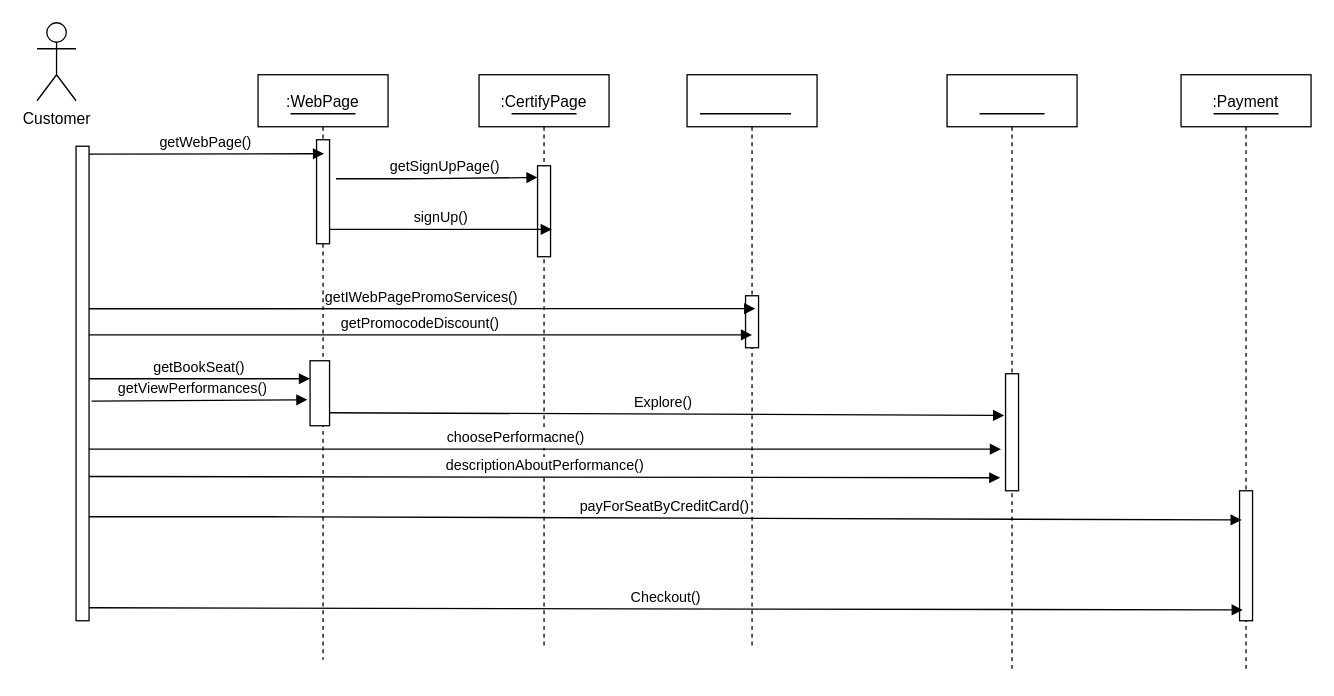
Some shapes in this 1334 by 696 pixel diagram are drawn without their labels. The box of each missing label's shape, as (x1, y1, x2, y2) in pixels:
:Performances: (946, 73, 1077, 673)
WebPagePromoServices: (686, 73, 817, 647)
